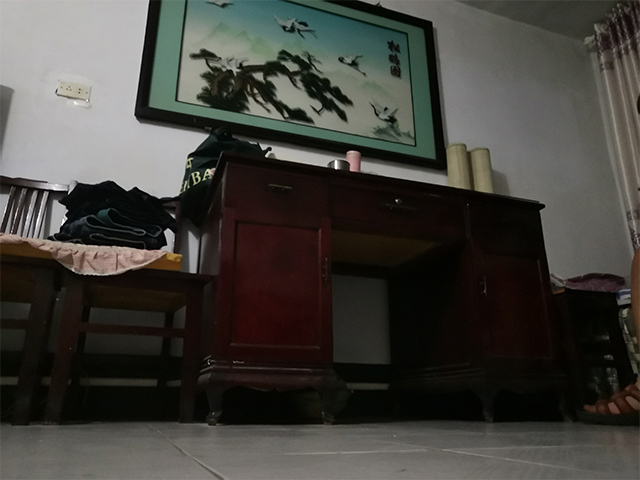cabinet: (194, 146, 564, 427)
stool: (1, 171, 214, 425), (552, 283, 639, 419)
